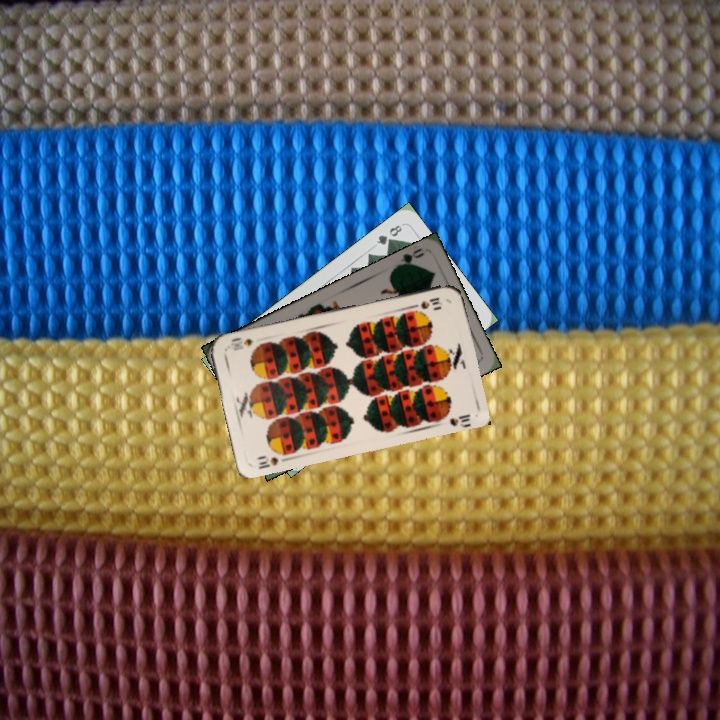G8: (372, 221, 405, 248)
GO: (390, 244, 427, 272)
S10: (407, 293, 445, 312), (253, 452, 281, 472)
